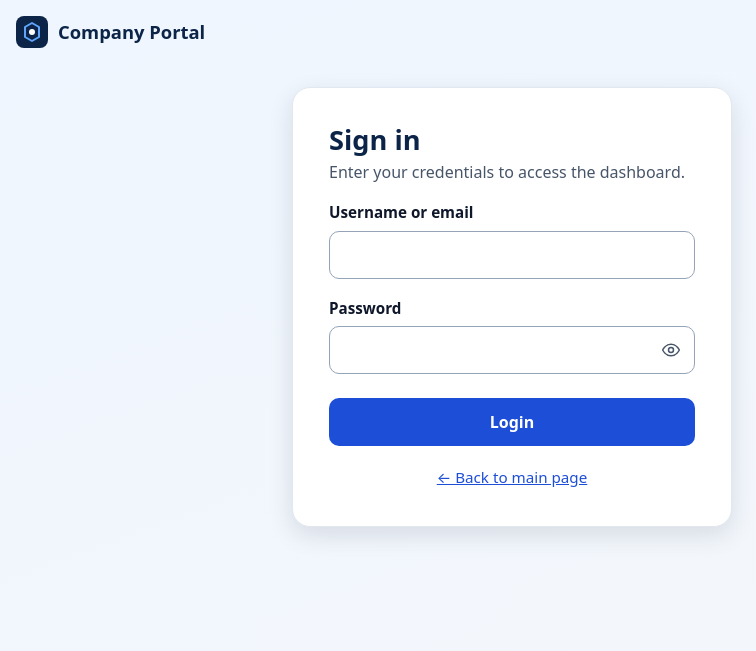
Scenario: login › shows an error for invalid credentials
Type "asha" into the field labelled "Username or email" at point(512, 255), box [329,231,695,279]
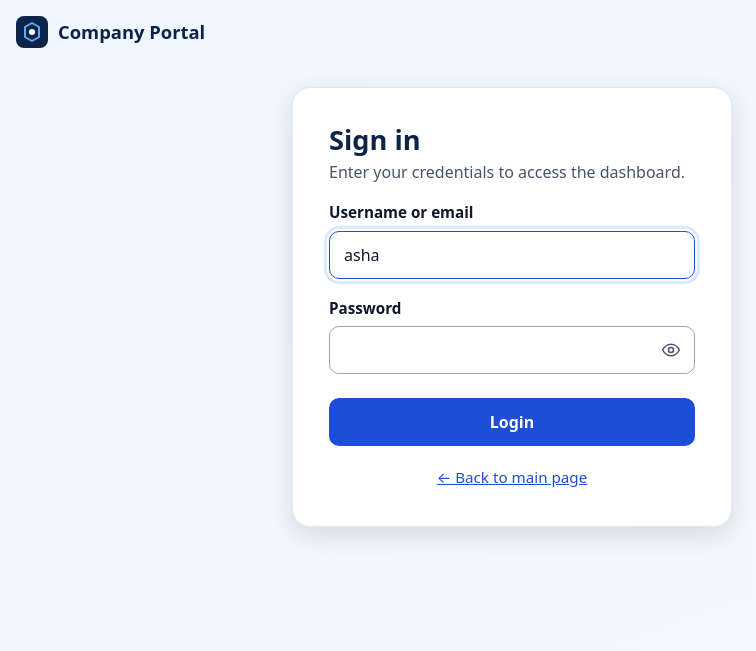
Type "wrong-password" into the password field labelled "Password" at point(512, 350), box [329,326,695,374]
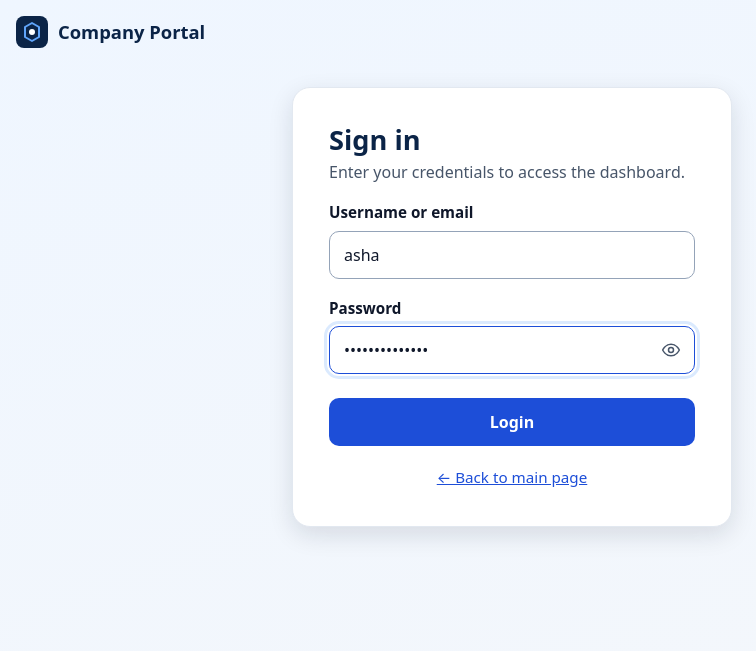
Click the button "Login" at point(512, 422), box [329,398,695,446]
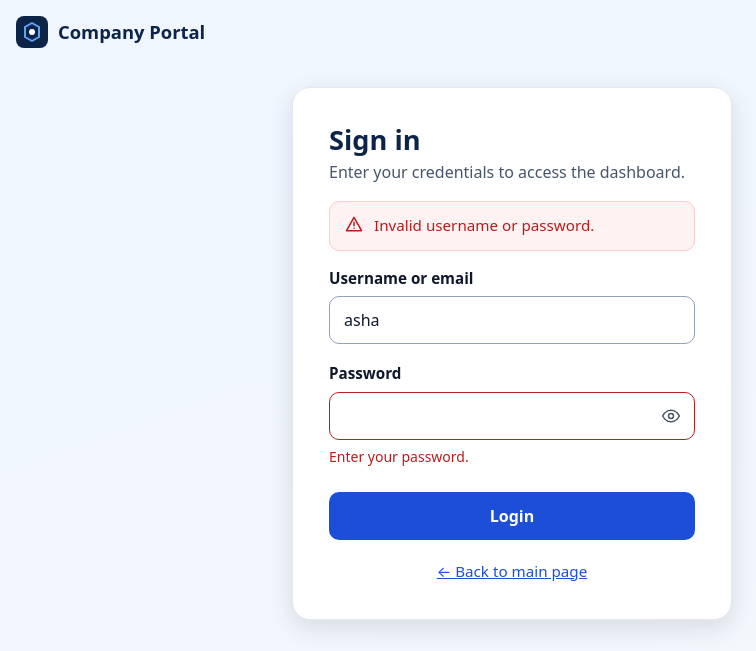
Expected: the message reads "Invalid username or password.", [374,215,594,235]
